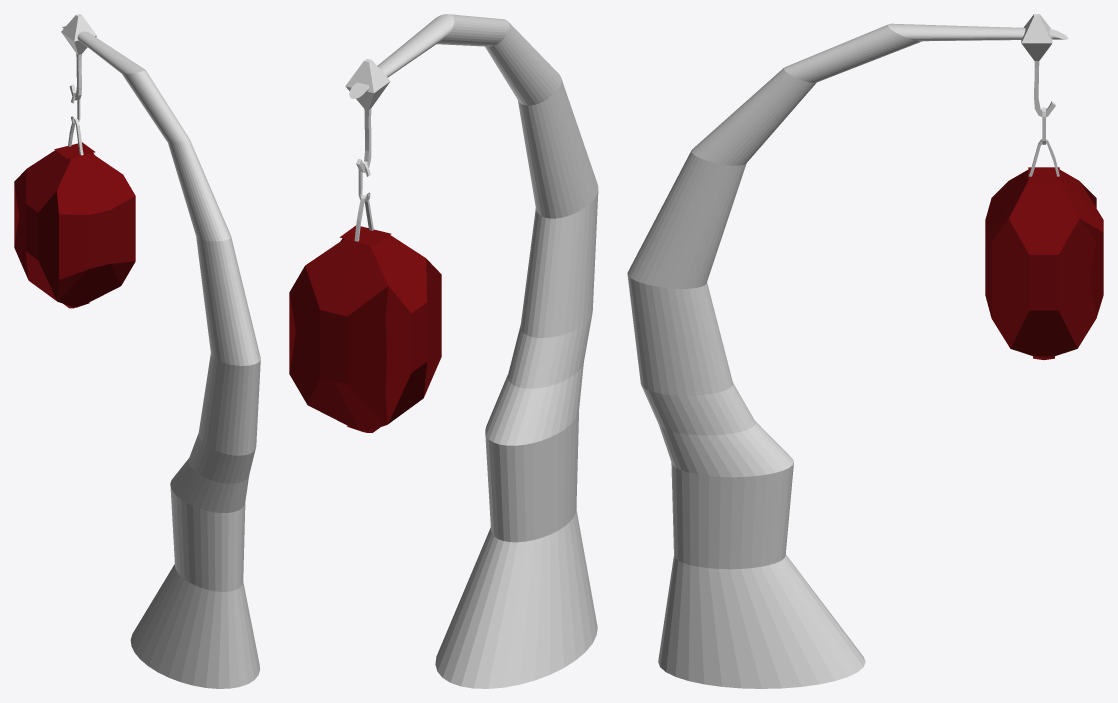
The model's file is tower (1).fbx.
The picture shows the model from 3 angles, left to right: view 1: azimuth 30°, elevation 25°; view 2: azimuth 150°, elevation 25°; view 3: azimuth 270°, elevation 25°; orthographic projection. The views are drawn at different scales.
Visible parts, largest first — view 1: tower; view 2: tower; view 3: tower.
Boxes of the visible parts, x1,y1,x2,y2 form: tower: (14, 14, 260, 688); tower: (289, 14, 598, 688); tower: (627, 14, 1103, 688).
Size of the model in its own units: 87.04 by 486 by 324.
